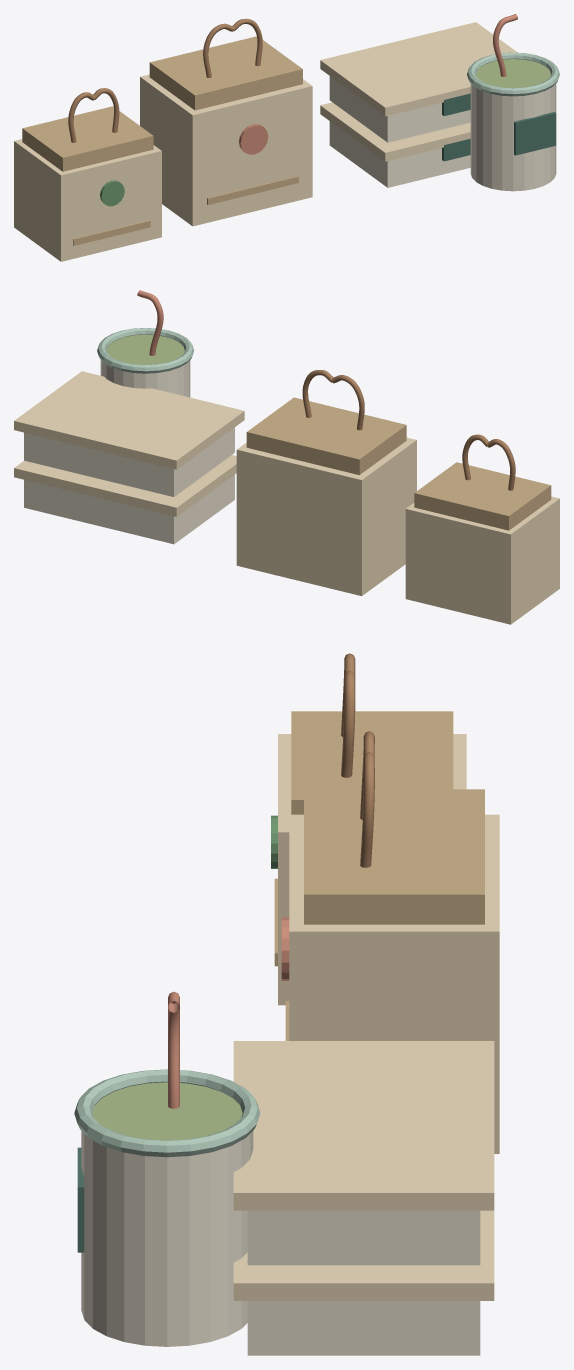
Rendered from park_kitchen_pickup_packing.glb.
3 renders of one model, top to bottom at view 1: azimuth 30°, elevation 25°; view 2: azimuth 150°, elevation 25°; view 3: azimuth 270°, elevation 25°, orthographic. The views are drawn at different scales.
Parts seen in each view (by area): view 1: bag_large__noodle_takeaway_stiff_lower_body, bag_small__garden_takeaway_stiff_lower_body, stacked_lidded_meal_boxes__stacked_takeaway_flush_lid_1, bag_large__noodle_takeaway_folded_closed_lip, sealed_tea_cup__to_go_tea_paper_cup, stacked_lidded_meal_boxes__stacked_takeaway_shallow_meal_box (×2), bag_small__garden_takeaway_folded_closed_lip, stacked_lidded_meal_boxes__stacked_takeaway_flush_lid_0, sealed_tea_cup__to_go_tea_visible_drink, sealed_tea_cup__to_go_tea_rolled_cup_rim, sealed_tea_cup__to_go_tea_ink_wrap, bag_large__noodle_takeaway_front_bottom_fold (+10 smaller); view 2: bag_large__noodle_takeaway_stiff_lower_body, bag_small__garden_takeaway_stiff_lower_body, stacked_lidded_meal_boxes__stacked_takeaway_flush_lid_1, stacked_lidded_meal_boxes__stacked_takeaway_shallow_meal_box (×2), bag_large__noodle_takeaway_folded_closed_lip, bag_small__garden_takeaway_folded_closed_lip, stacked_lidded_meal_boxes__stacked_takeaway_flush_lid_0, sealed_tea_cup__to_go_tea_visible_drink, sealed_tea_cup__to_go_tea_paper_cup, sealed_tea_cup__to_go_tea_rolled_cup_rim, sealed_tea_cup__to_go_tea_bent_straw, bag_large__noodle_takeaway_flat_paper_handle_-1 (+1 smaller); view 3: stacked_lidded_meal_boxes__stacked_takeaway_flush_lid_1, sealed_tea_cup__to_go_tea_paper_cup, bag_large__noodle_takeaway_stiff_lower_body, stacked_lidded_meal_boxes__stacked_takeaway_shallow_meal_box (×2), bag_large__noodle_takeaway_folded_closed_lip, bag_small__garden_takeaway_folded_closed_lip, stacked_lidded_meal_boxes__stacked_takeaway_flush_lid_0, sealed_tea_cup__to_go_tea_visible_drink, sealed_tea_cup__to_go_tea_rolled_cup_rim, bag_small__garden_takeaway_stiff_lower_body, sealed_tea_cup__to_go_tea_bent_straw, bag_large__noodle_takeaway_flat_paper_handle_1 (+1 smaller).
Part boxes in pixels (x1,y1,x2,y2): bag_large__noodle_takeaway_stiff_lower_body: (140,74,312,226); bag_small__garden_takeaway_stiff_lower_body: (14,139,161,261); stacked_lidded_meal_boxes__stacked_takeaway_flush_lid_1: (320,22,517,116); bag_large__noodle_takeaway_folded_closed_lip: (149,36,302,110); sealed_tea_cup__to_go_tea_paper_cup: (470,83,556,191); stacked_lidded_meal_boxes__stacked_takeaway_shallow_meal_box (×2): (329,76,470,187); bag_small__garden_takeaway_folded_closed_lip: (22,106,153,171); stacked_lidded_meal_boxes__stacked_takeaway_flush_lid_0: (320,102,470,161); sealed_tea_cup__to_go_tea_visible_drink: (476,59,550,87); sealed_tea_cup__to_go_tea_rolled_cup_rim: (467,52,559,96); sealed_tea_cup__to_go_tea_ink_wrap: (514,112,556,155); bag_large__noodle_takeaway_front_bottom_fold: (207,176,298,204); bag_large__noodle_takeaway_stiff_lower_body: (236,437,416,595); bag_small__garden_takeaway_stiff_lower_body: (405,496,559,624); stacked_lidded_meal_boxes__stacked_takeaway_flush_lid_1: (14,371,244,469); stacked_lidded_meal_boxes__stacked_takeaway_shallow_meal_box (×2): (24,427,234,544); bag_large__noodle_takeaway_folded_closed_lip: (246,397,406,474); bag_small__garden_takeaway_folded_closed_lip: (414,462,551,530); stacked_lidded_meal_boxes__stacked_takeaway_flush_lid_0: (14,455,236,516); sealed_tea_cup__to_go_tea_visible_drink: (106,334,184,364); sealed_tea_cup__to_go_tea_paper_cup: (100,360,190,397); sealed_tea_cup__to_go_tea_rolled_cup_rim: (97,328,193,373); sealed_tea_cup__to_go_tea_bent_straw: (137,290,163,355); bag_large__noodle_takeaway_flat_paper_handle_-1: (332,375,364,430); stacked_lidded_meal_boxes__stacked_takeaway_flush_lid_1: (233,1041,494,1210); sealed_tea_cup__to_go_tea_paper_cup: (81,1131,253,1346); bag_large__noodle_takeaway_stiff_lower_body: (289,814,499,1153); stacked_lidded_meal_boxes__stacked_takeaway_shallow_meal_box (×2): (247,1210,480,1355); bag_large__noodle_takeaway_folded_closed_lip: (304,789,484,924); bag_small__garden_takeaway_folded_closed_lip: (291,711,453,814); stacked_lidded_meal_boxes__stacked_takeaway_flush_lid_0: (233,1210,494,1300); sealed_tea_cup__to_go_tea_visible_drink: (92,1082,242,1140); sealed_tea_cup__to_go_tea_rolled_cup_rim: (74,1069,260,1157); bag_small__garden_takeaway_stiff_lower_body: (278,734,466,1005); sealed_tea_cup__to_go_tea_bent_straw: (168,991,179,1108); bag_large__noodle_takeaway_flat_paper_handle_1: (360,752,374,867).
Size of the model in its own units: 1.95 by 0.7018 by 0.768.
